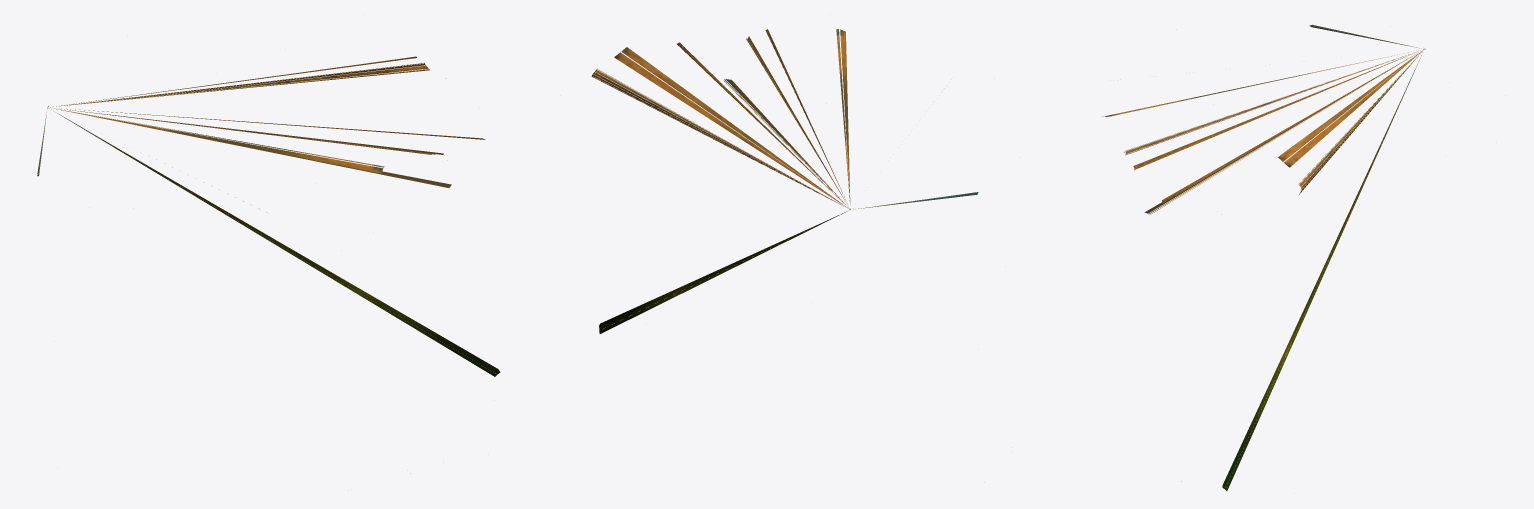
The model's file is prop_hay_pile_02.glb.
3 views of the same model, side by side, from view 1: azimuth 30°, elevation 25°; view 2: azimuth 150°, elevation 25°; view 3: azimuth 270°, elevation 25° (orthographic). The views are drawn at different scales.
Visible parts, largest first — view 1: geometry_0; view 2: geometry_0; view 3: geometry_0.
Part boxes in pixels (x1,y1,x2,y2): geometry_0: (37,56,500,473); geometry_0: (591,29,978,333); geometry_0: (1102,24,1425,490).
Size of the model in its own units: 0.9681 by 0.7404 by 0.8949.
1 material, 1 textured.
